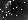person: (6, 3, 11, 14)
